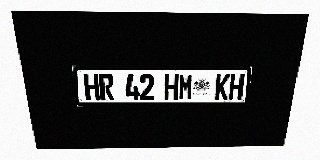2: (140, 74, 154, 100)
4: (125, 74, 140, 100)
H: (83, 74, 100, 101), (228, 74, 245, 100), (164, 74, 179, 100)
K: (214, 74, 230, 100)
M: (178, 74, 193, 100)
R: (99, 74, 115, 101)
